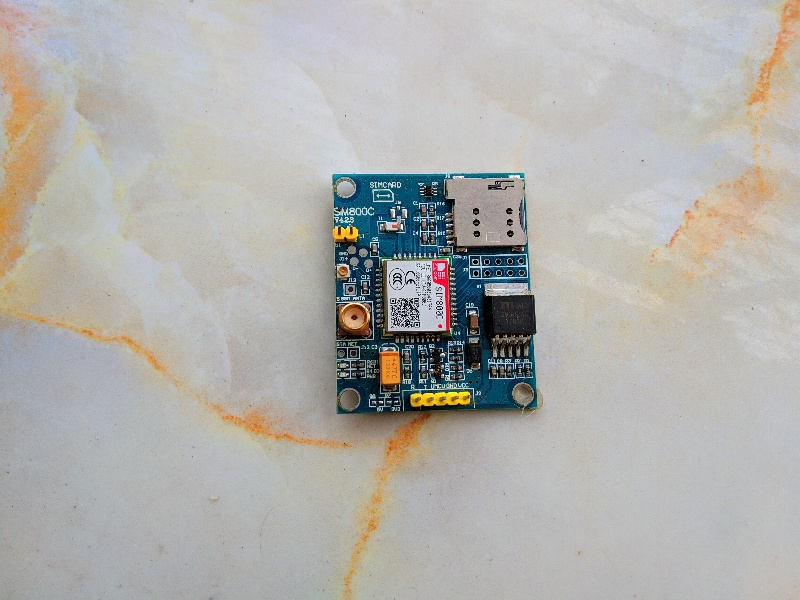SIM800: (323, 162, 544, 423)
